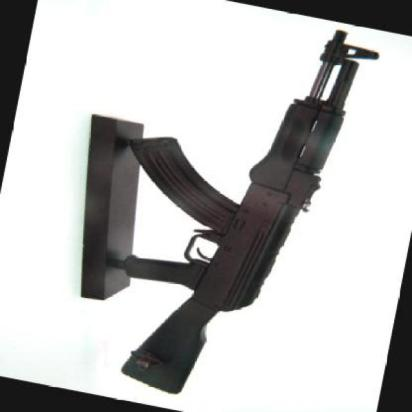Gun: (115, 12, 385, 397)
